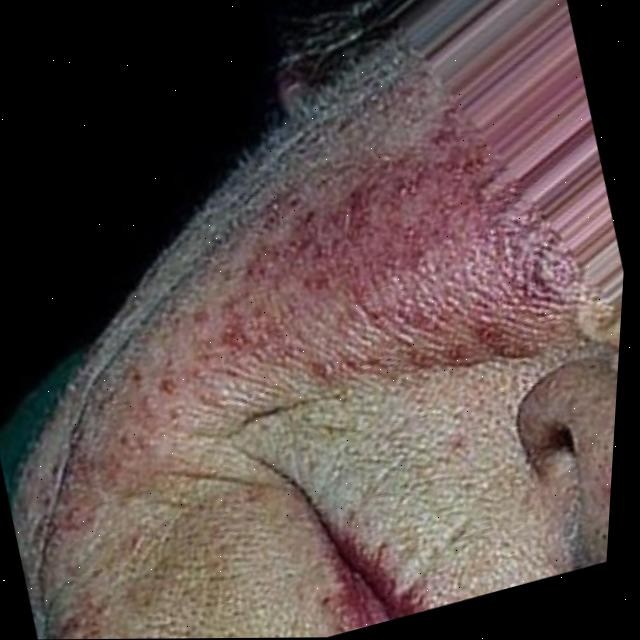Rosacea: (36, 72, 614, 469)
